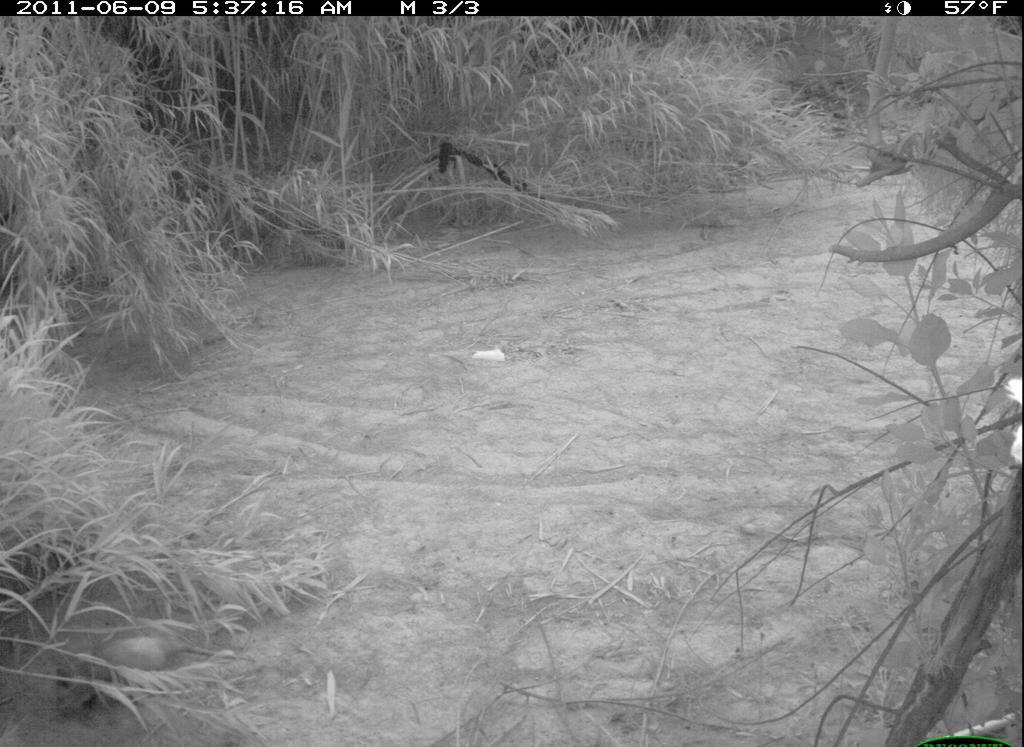opossum: (59, 620, 251, 721)
